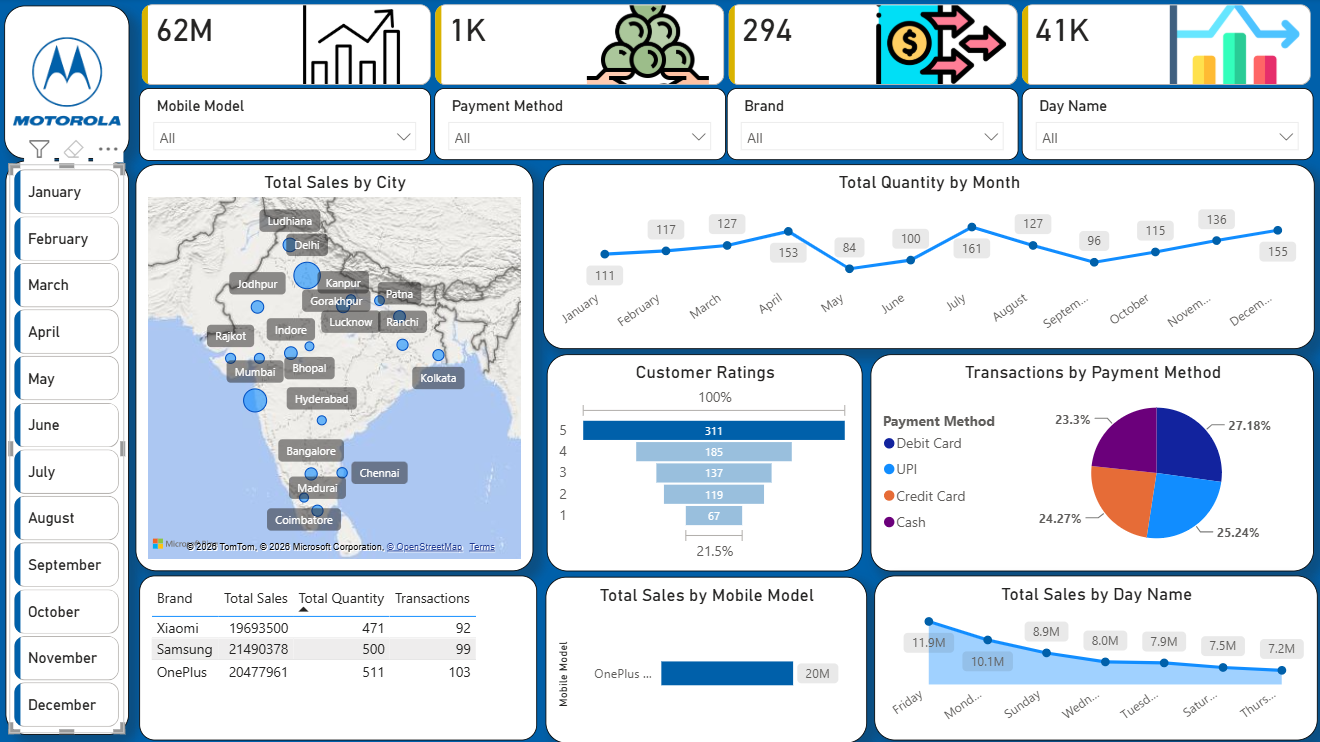

The dashboard page shown, as its layout file describes it:
{"tool":"powerbi","page":{"name":"Page 1","canvas":[1280,720],"ordinal":0},"visuals":[{"type":"shape","box":[5.5,6.9,120.8,148.2],"z":0},{"type":"image","box":[9.7,21.7,113.4,117],"z":1000},{"type":"shape","box":[6.9,156.4,119.4,554.4],"z":2000},{"type":"advancedSlicerVisual","fields":{"Values":["Sales_Data.Date.Variation.Date Hierarchy.Month"]},"box":[11,160.5,111.1,548.9],"z":3000},{"type":"cardVisual","fields":{"Data":["Sales_Data.Total Sales","Sales_Data.Total Quantity","Sales_Data.Transactions","Sales_Data.Average"]},"box":[134,5.6,1140.1,83.7],"z":4000},{"type":"map","fields":{"Category":["Sales_Data.City"],"Size":["Sales_Data.Total Sales"]},"box":[132.9,160.8,384.1,393.1],"z":5000},{"type":"lineChart","fields":{"Category":["Sales_Data.Date.Variation.Date Hierarchy.Month","Sales_Data.Date.Variation.Date Hierarchy.Day"],"Y":["Sales_Data.Total Quantity"]},"box":[525.9,160.8,744.8,178.7],"z":6000},{"type":"clusteredBarChart","fields":{"Category":["Sales_Data.Mobile Model"],"Y":["Sales_Data.Total Sales"]},"box":[528.3,558.5,310.1,160.5],"z":7000},{"type":"pieChart","fields":{"Category":["Sales_Data.Payment Method"],"Y":["Sales_Data.Transactions"]},"box":[842.5,344.4,428.1,209.9],"z":8000},{"type":"funnel","title":"Customer Ratings","fields":{"Category":["Sales_Data.Customer Ratings"],"Y":["CountNonNull(Sales_Data.Customer Ratings)"]},"box":[529.7,344.4,304.6,209.9],"z":9000},{"type":"areaChart","fields":{"Category":["Sales_Data.Day Name"],"Y":["Sales_Data.Total Sales"]},"box":[845.3,557.1,428.1,159.2],"z":10000},{"type":"tableEx","fields":{"Values":["Sales_Data.Brand","Sales_Data.Total Sales","Sales_Data.Total Quantity","Sales_Data.Transactions"]},"box":[135.8,557.1,384.2,159.2],"z":11000},{"type":"slicer","fields":{"Values":["Sales_Data.Mobile Model"]},"box":[136.2,87.1,281.4,70.3],"z":12000},{"type":"slicer","fields":{"Values":["Sales_Data.Payment Method"]},"box":[421,87.1,281.4,69.2],"z":13000},{"type":"slicer","fields":{"Values":["Sales_Data.Brand"]},"box":[703.5,87.1,281.4,69.2],"z":14000},{"type":"slicer","fields":{"Values":["Sales_Data.Day Name"]},"box":[988.2,87.1,281.4,69.2],"z":15000}]}

Visuals, with their boxes in screenshot pixels (x1, y1, x2, y2), scaled from the page's 1280x720 canvas onto the 1320x742 screenshot:
shape: 6/7/130/160
image: 10/22/127/143
shape: 7/161/130/733
advancedSlicerVisual - Sales_Data.Date.Variation.Date Hierarchy.Month: 11/165/126/731
cardVisual - Sales_Data.Total Sales x Sales_Data.Total Quantity: 138/6/1314/92
map - Sales_Data.City x Sales_Data.Total Sales: 137/166/533/571
lineChart - Sales_Data.Date.Variation.Date Hierarchy.Month x Sales_Data.Date.Variation.Date Hierarchy.Day: 542/166/1310/350
clusteredBarChart - Sales_Data.Mobile Model x Sales_Data.Total Sales: 545/576/865/741
pieChart - Sales_Data.Payment Method x Sales_Data.Transactions: 869/355/1310/571
"Customer Ratings" funnel: 546/355/860/571
areaChart - Sales_Data.Day Name x Sales_Data.Total Sales: 872/574/1313/738
tableEx - Sales_Data.Brand x Sales_Data.Total Sales: 140/574/536/738
slicer - Sales_Data.Mobile Model: 140/90/431/162
slicer - Sales_Data.Payment Method: 434/90/724/161
slicer - Sales_Data.Brand: 725/90/1016/161
slicer - Sales_Data.Day Name: 1019/90/1309/161
